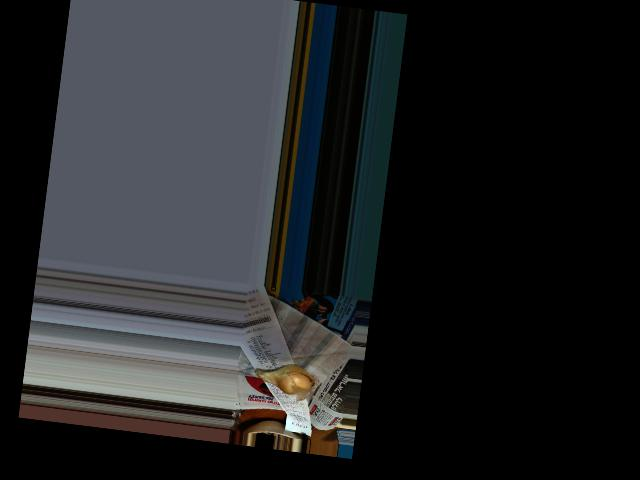onion: (260, 363, 316, 396)
